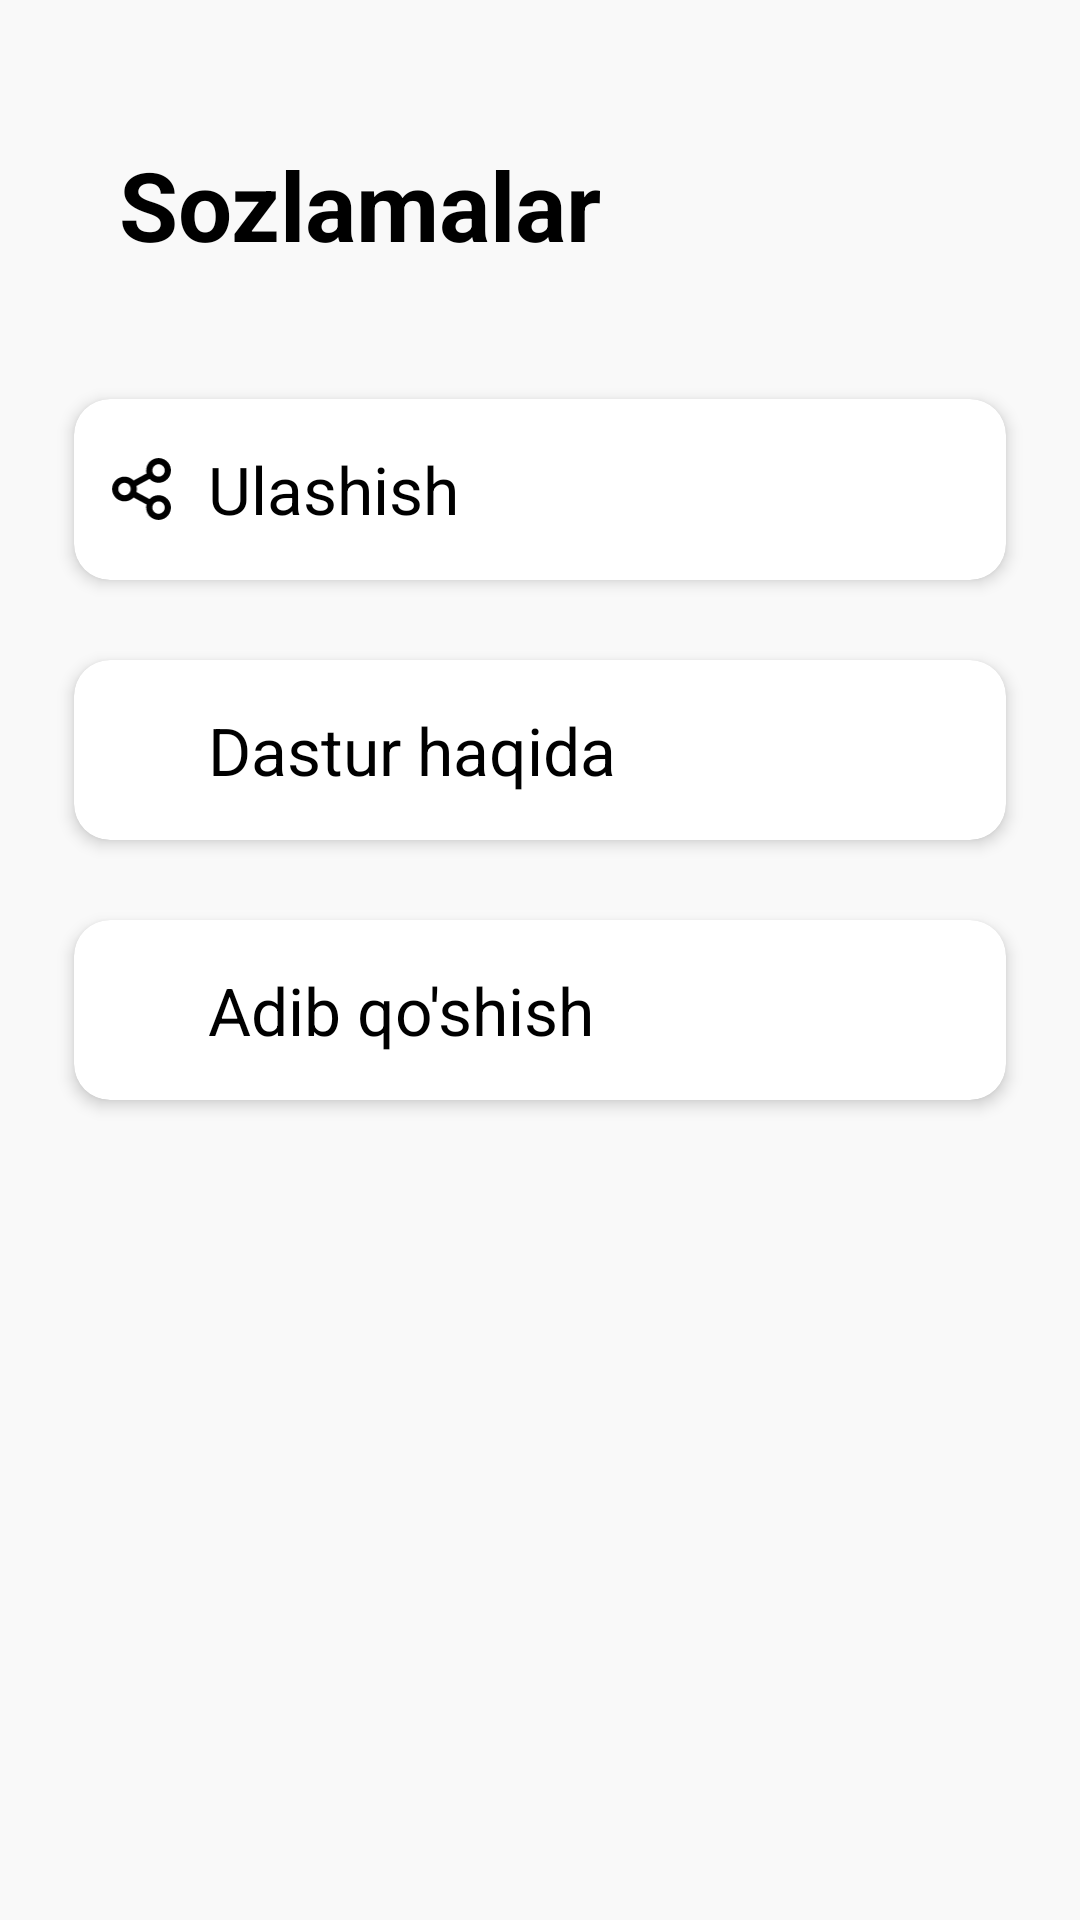

Icons on this 1080 x 1920 Android screen, each with its box as (x1, y1, x2, y2):
vectorshare: (112, 458, 171, 520)
